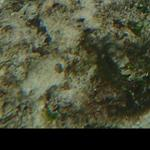dead: (1, 4, 147, 127)
